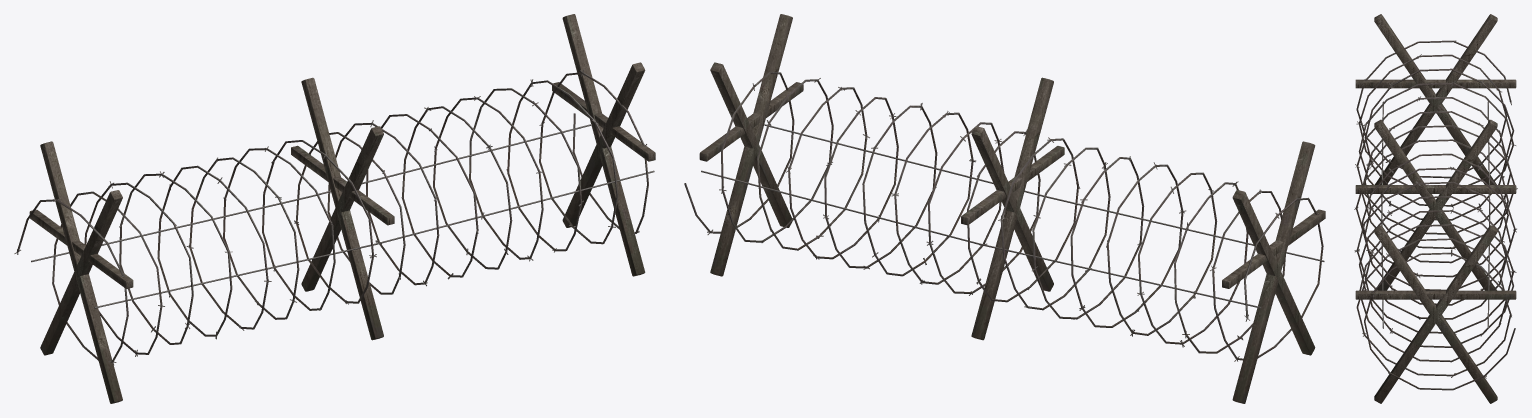
File: barbed_wire.glb
3 views of the same model, side by side, from view 1: azimuth 30°, elevation 25°; view 2: azimuth 150°, elevation 25°; view 3: azimuth 270°, elevation 25° (orthographic). The views are drawn at different scales.
Visible parts, largest first — view 1: barbed_wire_Wood, barbed_wire_Iron; view 2: barbed_wire_Wood, barbed_wire_Iron; view 3: barbed_wire_Wood, barbed_wire_Iron.
Boxes of the visible parts, box(x1,y1,x2,y2) form: barbed_wire_Wood: box(29, 14, 655, 403); barbed_wire_Iron: box(14, 69, 654, 365); barbed_wire_Wood: box(699, 14, 1325, 403); barbed_wire_Iron: box(684, 71, 1324, 361); barbed_wire_Wood: box(1355, 14, 1516, 403); barbed_wire_Iron: box(1354, 40, 1517, 390).
Bounding box in the file's own units: 3.02 × 1.09 × 0.9183.
2 materials, 2 textured.
